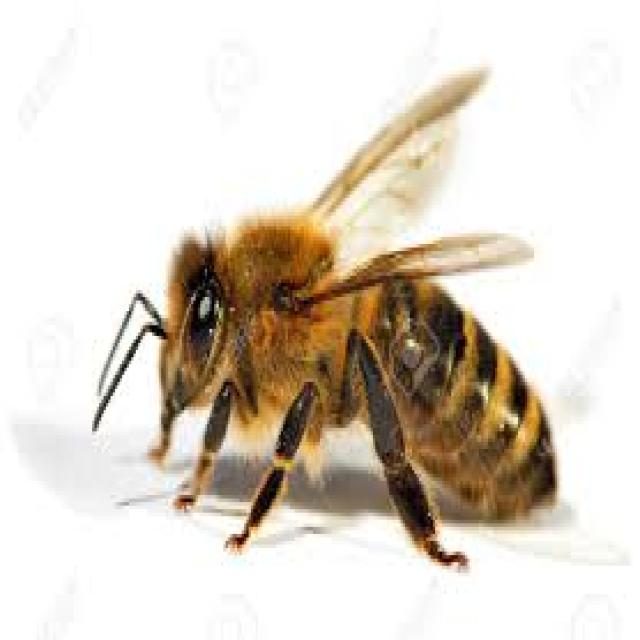Bees: (93, 68, 560, 574)
